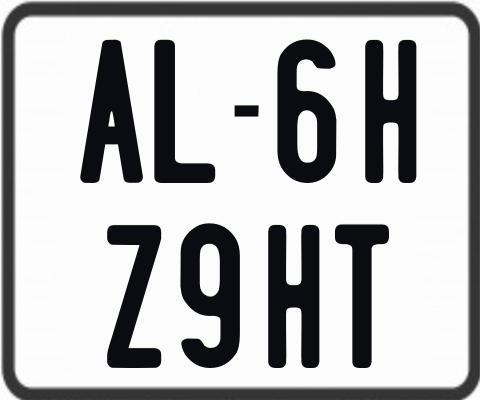6: (275, 38, 337, 184)
9: (177, 221, 237, 370)
A: (78, 39, 141, 184)
H: (363, 40, 418, 186), (265, 223, 318, 371)
L: (152, 38, 213, 187)
T: (335, 224, 395, 372)
Z: (104, 224, 161, 371)
